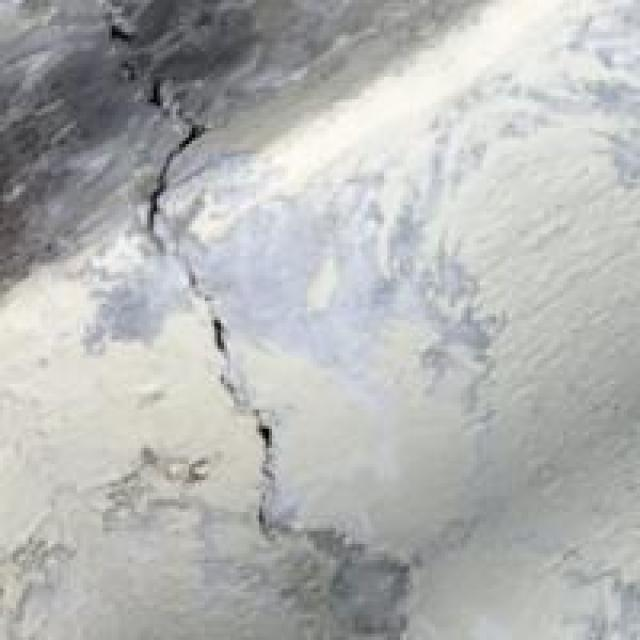Crack: (83, 3, 442, 637)
